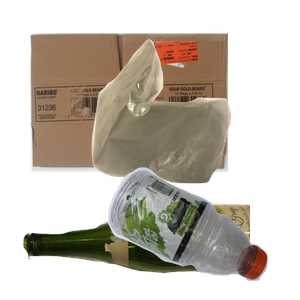cardboard: (28, 31, 249, 195)
glass: (21, 201, 261, 300)
plastic: (105, 165, 300, 300)
trash: (89, 37, 300, 213)
